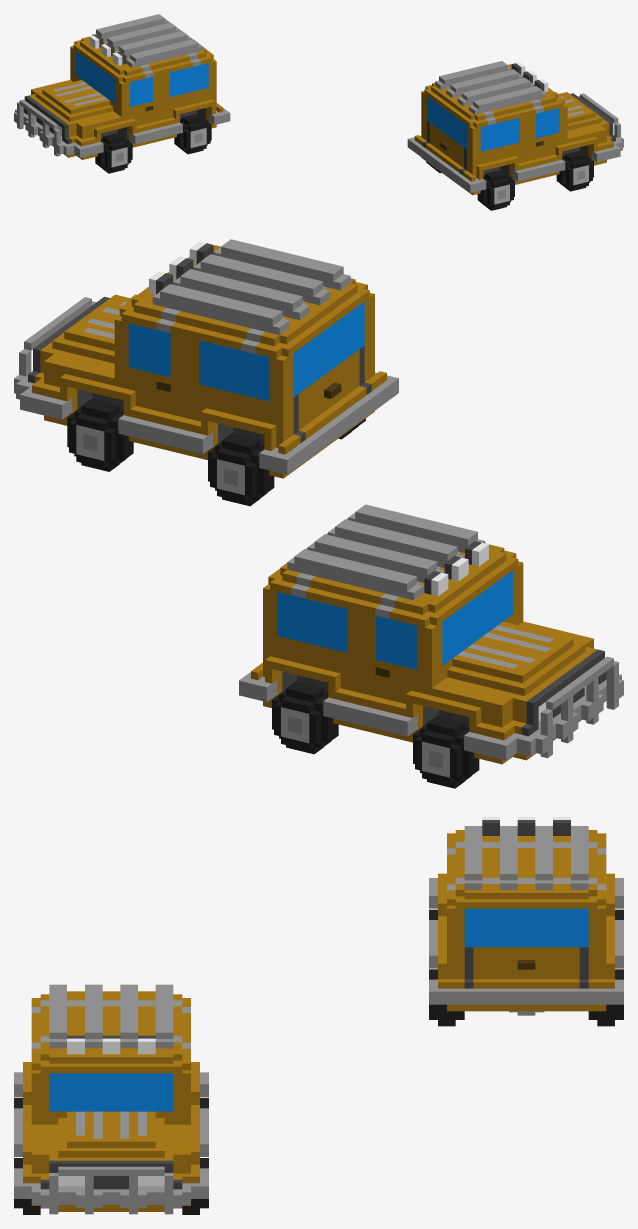
Rendered from Beetle Prefab(Clone).fbx.
3 views of the same model, one above another, from view 1: azimuth 30°, elevation 25°; view 2: azimuth 150°, elevation 25°; view 3: azimuth 270°, elevation 25° (orthographic). The views are drawn at different scales.
Parts seen in each view (by area): view 1: CCar_01_1, CCar_01, CCar_01__1_, CCar_01_Wheel_FL_1, CCar_01_Wheel_RL_1, CCar_01_Wheel_FR, CCar_01_Wheel_RR; view 2: CCar_01_1, CCar_01, CCar_01__1_, CCar_01_Wheel_RR_1, CCar_01_Wheel_FL, CCar_01_Wheel_RL, CCar_01_Wheel_FR_1; view 3: CCar_01__1_, CCar_01_1, CCar_01, CCar_01_Wheel_RL_1, CCar_01_Wheel_RR_1.
Part boxes in pixels (x1=…): CCar_01_1: x1=14, y1=14, x2=230, y2=159; CCar_01: x1=407, y1=64, x2=623, y2=194; CCar_01__1_: x1=408, y1=61, x2=623, y2=194; CCar_01_Wheel_FL_1: x1=95, y1=132, x2=132, y2=173; CCar_01_Wheel_RL_1: x1=174, y1=113, x2=211, y2=154; CCar_01_Wheel_FR: x1=556, y1=150, x2=593, y2=191; CCar_01_Wheel_RR: x1=477, y1=170, x2=514, y2=210; CCar_01_1: x1=239, y1=504, x2=623, y2=764; CCar_01: x1=14, y1=239, x2=398, y2=478; CCar_01__1_: x1=14, y1=239, x2=397, y2=477; CCar_01_Wheel_RR_1: x1=272, y1=681, x2=338, y2=754; CCar_01_Wheel_FL: x1=67, y1=399, x2=133, y2=471; CCar_01_Wheel_RL: x1=208, y1=433, x2=274, y2=506; CCar_01_Wheel_FR_1: x1=413, y1=715, x2=479, y2=788; CCar_01__1_: x1=14, y1=984, x2=208, y2=1214; CCar_01_1: x1=429, y1=817, x2=623, y2=1015; CCar_01: x1=14, y1=984, x2=208, y2=1213; CCar_01_Wheel_RL_1: x1=429, y1=969, x2=464, y2=1026; CCar_01_Wheel_RR_1: x1=588, y1=969, x2=623, y2=1026.
Size of the model in its own units: 1324 by 294 by 1046.
Materials: 1 (1 with a texture image).
